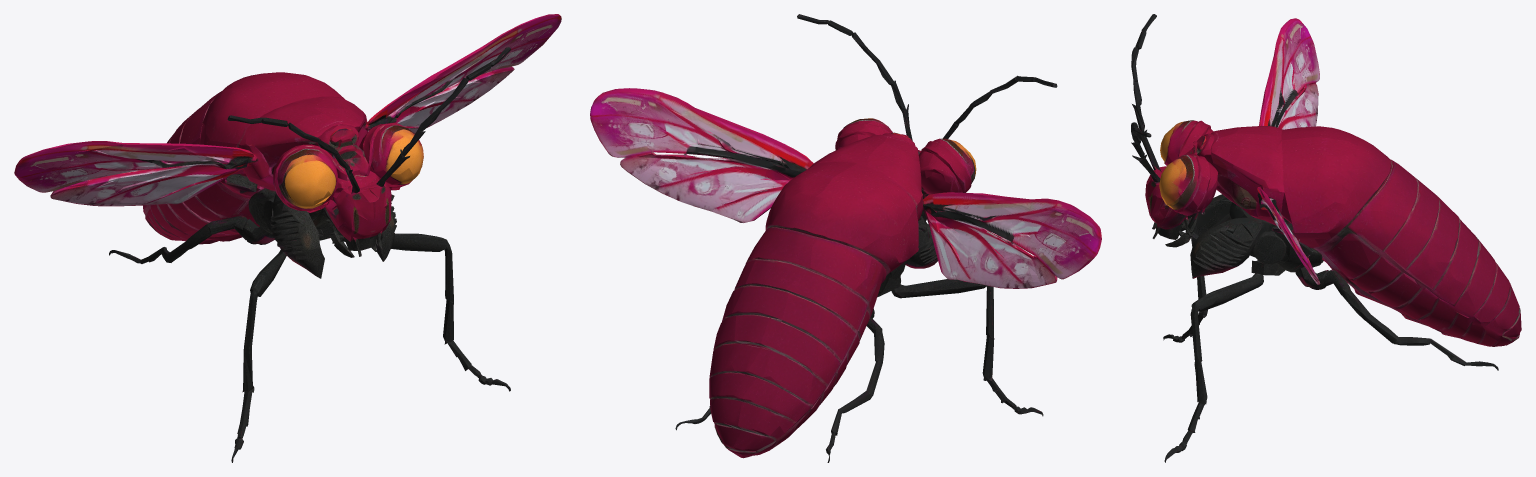
Rendered from neon_cicada.glb.
3 renders of one model, left to right at view 1: azimuth 30°, elevation 25°; view 2: azimuth 150°, elevation 25°; view 3: azimuth 270°, elevation 25°, orthographic. The views are drawn at different scales.
Size of the model in its own units: 1.9 by 1.19 by 1.29.
Materials: 1 (1 with a texture image).
